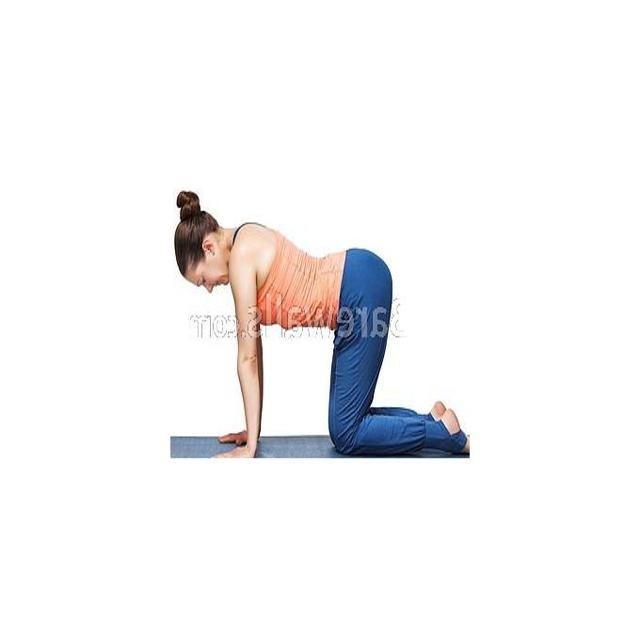Cow_Pose: (175, 211, 469, 459)
